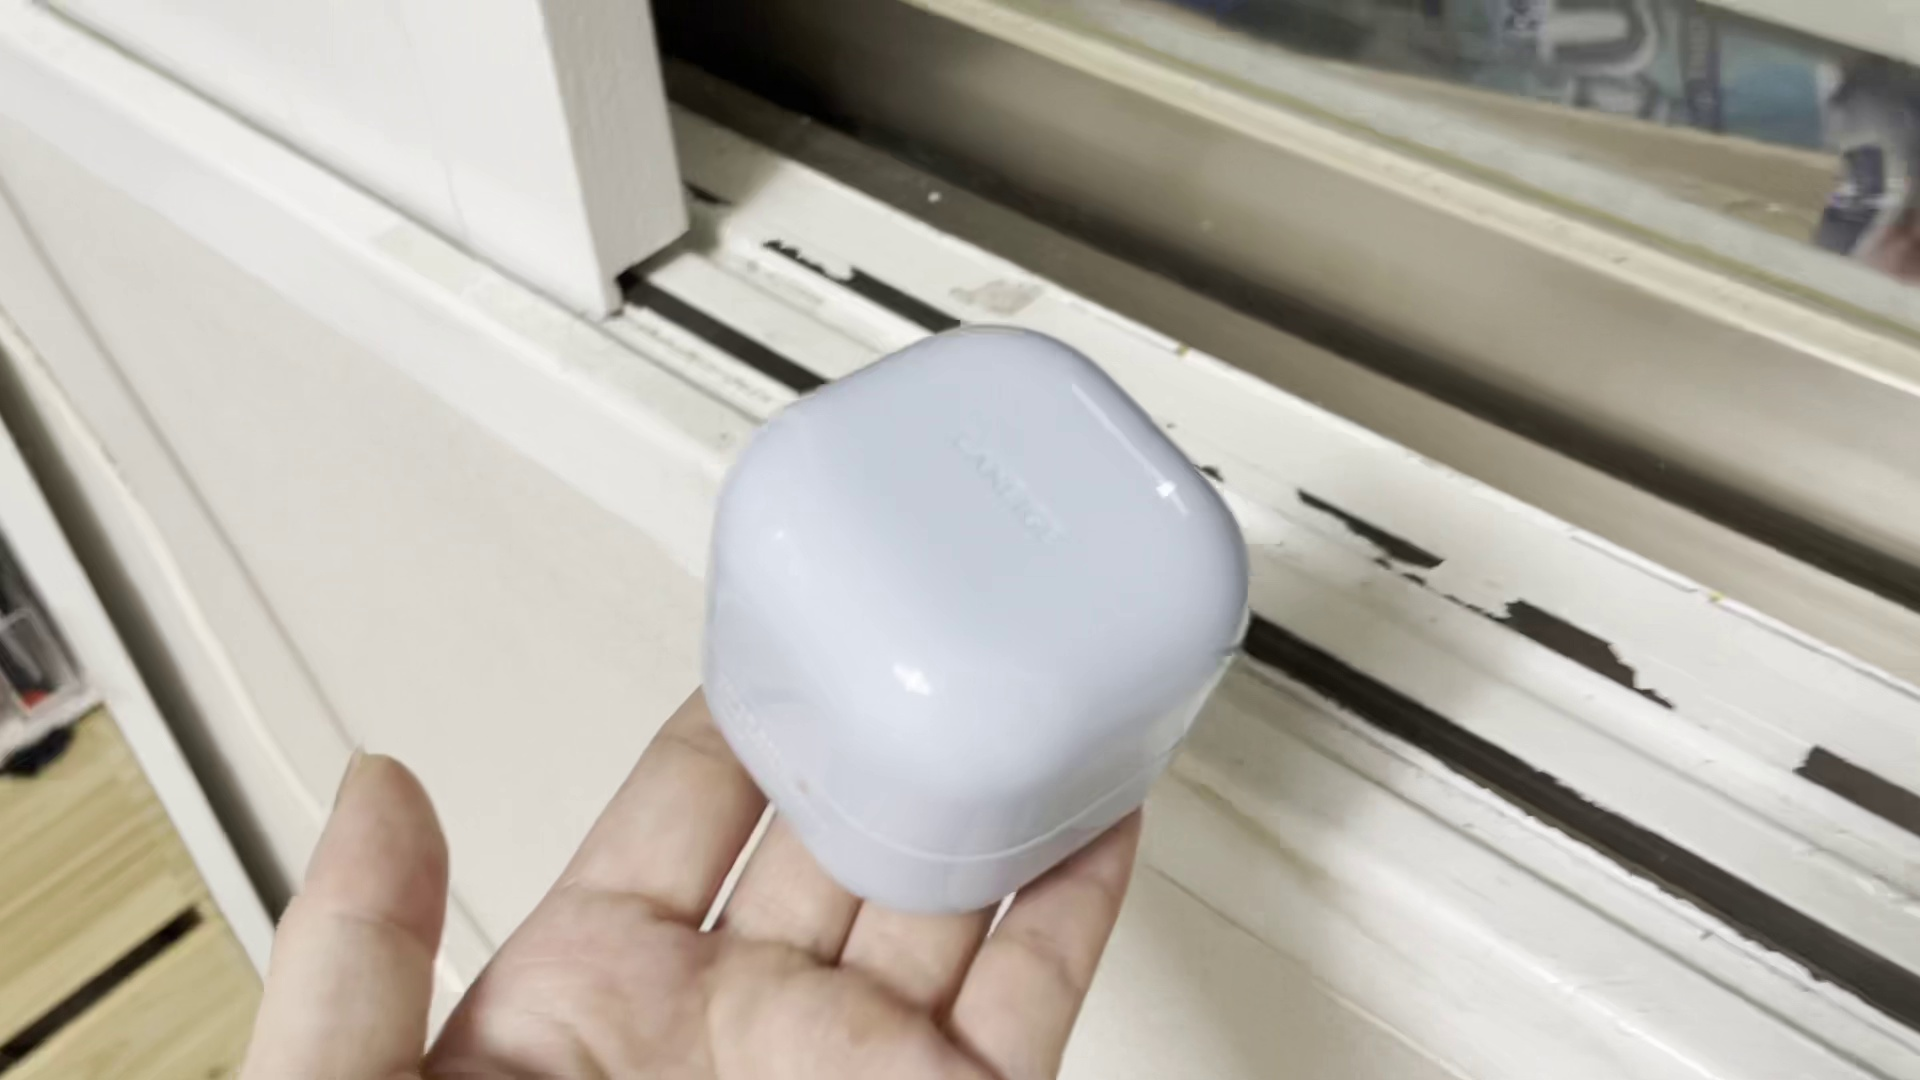cream: (695, 327, 1250, 915)
